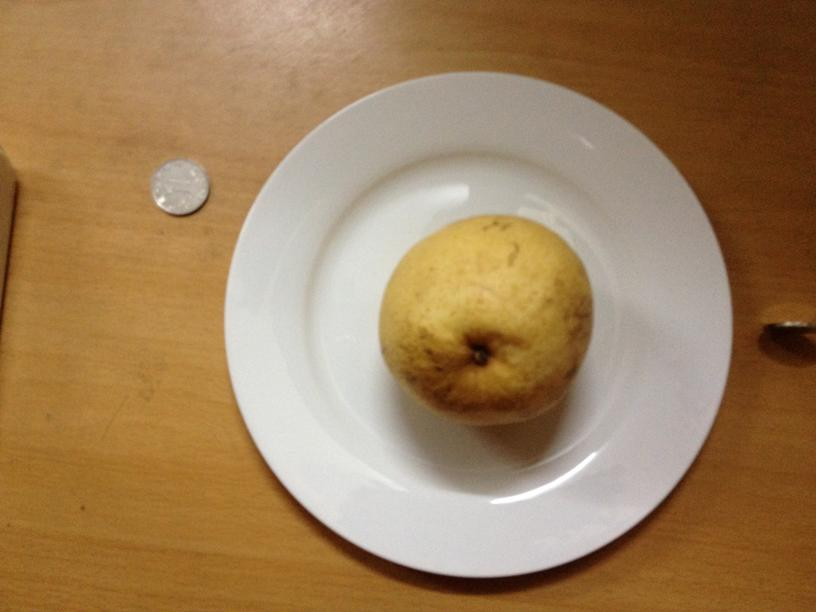coin: (151, 160, 211, 217)
pear: (382, 215, 595, 429)
